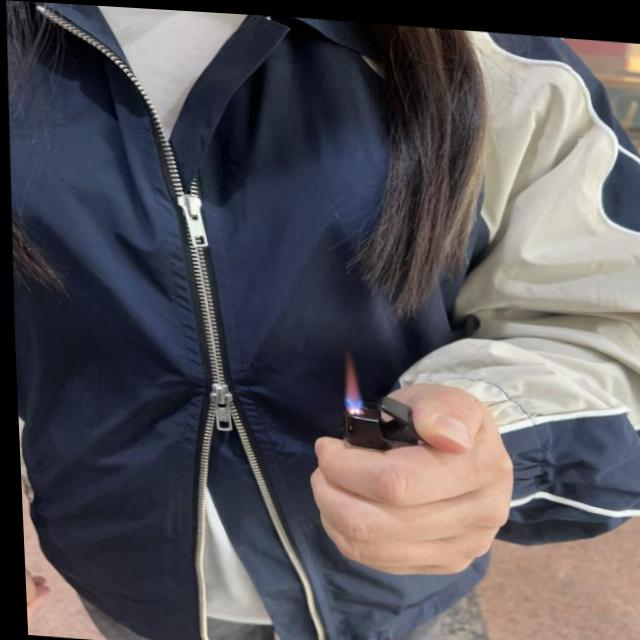Fire: (341, 347, 360, 410)
